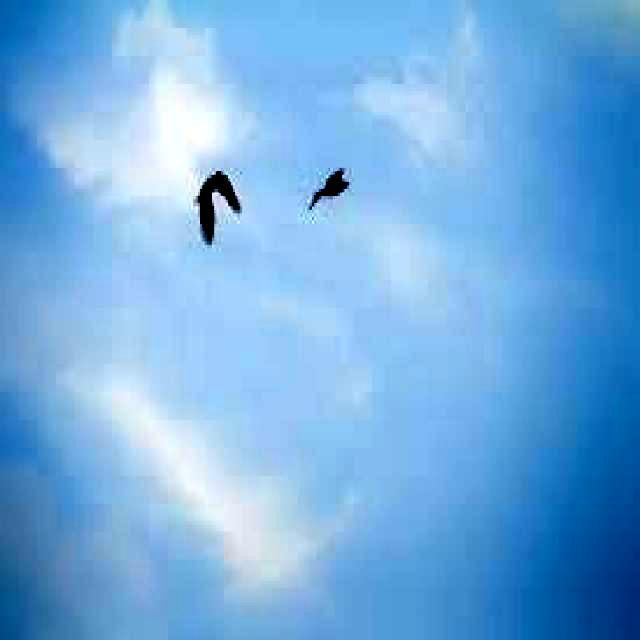bird: (174, 172, 252, 246), (306, 161, 351, 211)
